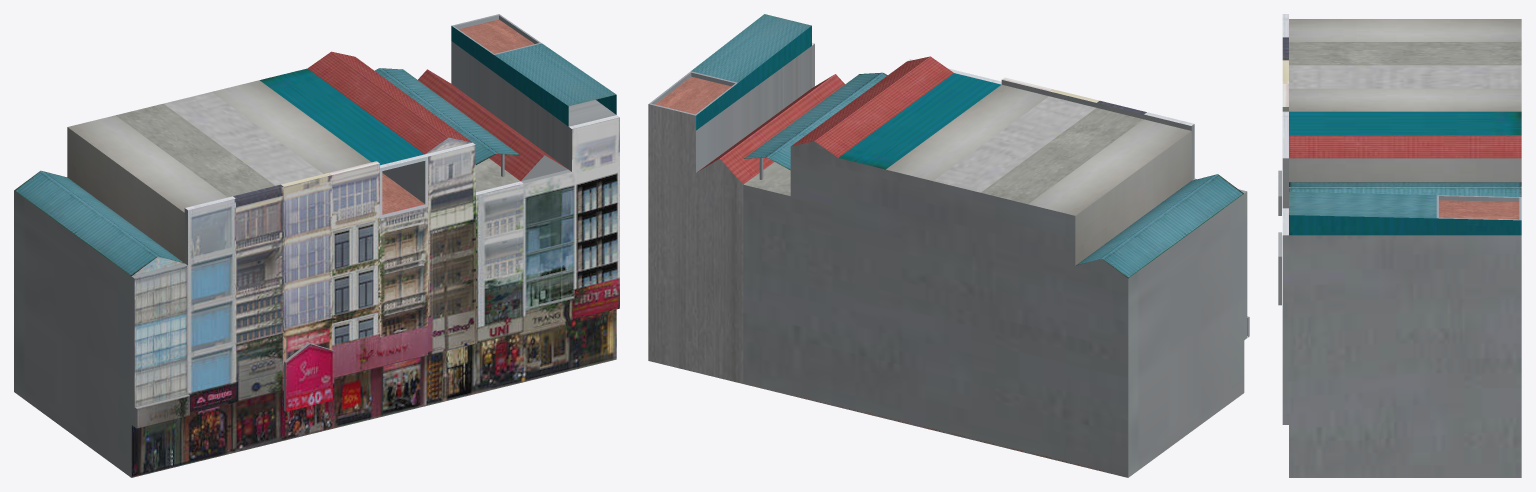
3 renders of one model, left to right at view 1: azimuth 30°, elevation 25°; view 2: azimuth 150°, elevation 25°; view 3: azimuth 270°, elevation 25°, orthographic.
Visible parts, largest first — view 1: 5c50236d822d164ae4d861c2.001; view 2: 5c50236d822d164ae4d861c2.001; view 3: 5c50236d822d164ae4d861c2.001.
Boxes of the visible parts, x1,y1,x2,y2 form: 5c50236d822d164ae4d861c2.001: (14,14,619,477); 5c50236d822d164ae4d861c2.001: (648,14,1249,477); 5c50236d822d164ae4d861c2.001: (1278,14,1521,477).
Bounding box in the file's own units: 35.25 × 18.4 × 15.44.
1 material, 1 textured.
